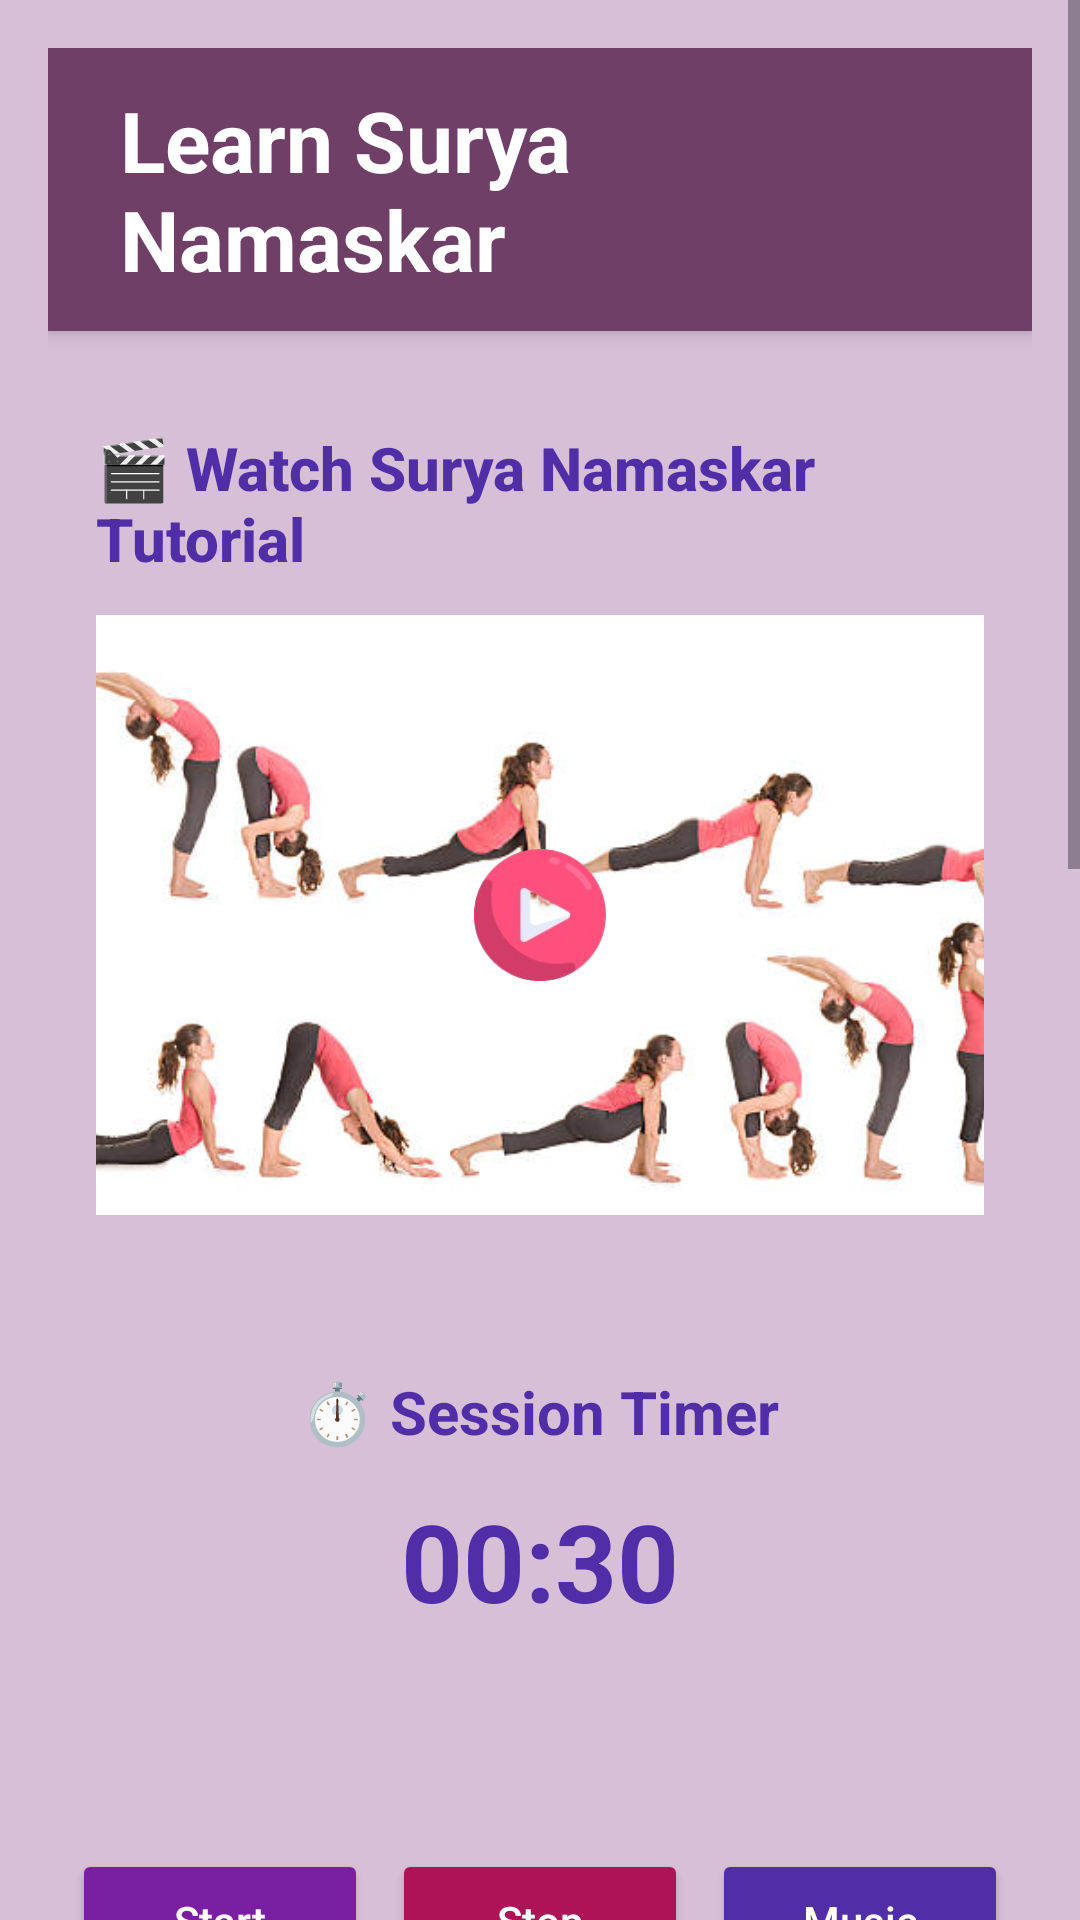

Icons on this 1080*1920 Android screen, each with the point to tap as (x,y):
Play Video: (540,915)
